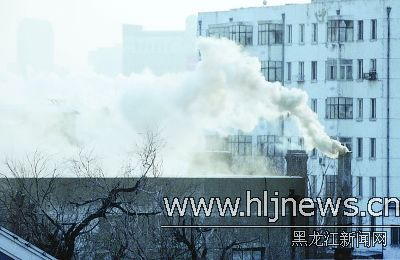dust: (260, 94, 368, 158)
